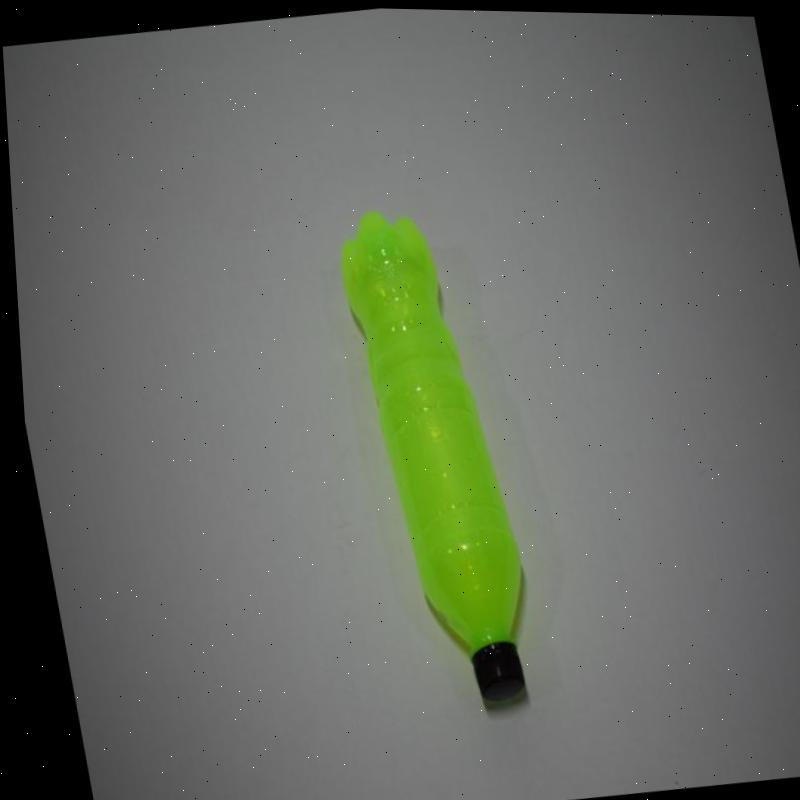botella: (327, 198, 541, 713)
